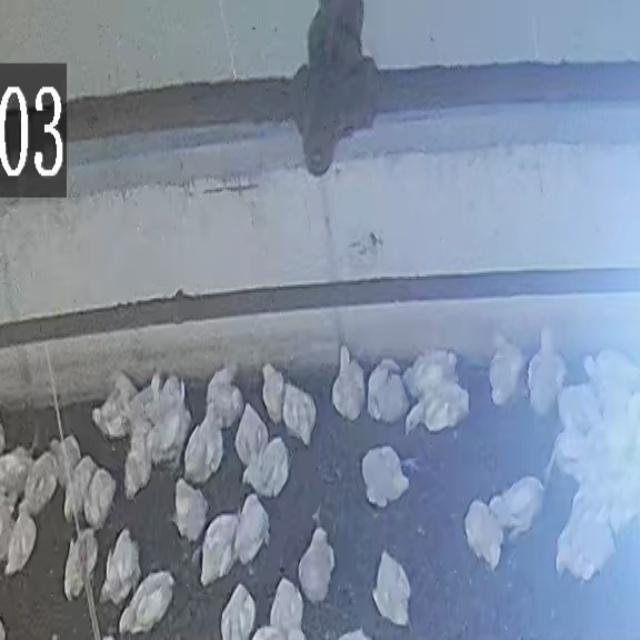chicken: (592, 377, 640, 485), (555, 502, 614, 583), (118, 570, 177, 636), (398, 384, 472, 432), (362, 446, 419, 506), (100, 528, 142, 608), (460, 494, 506, 566), (92, 371, 140, 440), (296, 523, 336, 603), (372, 548, 412, 628), (199, 511, 241, 587), (182, 414, 225, 488), (366, 358, 409, 428), (243, 436, 290, 500), (233, 493, 271, 569), (491, 326, 527, 406), (64, 526, 100, 603), (330, 348, 366, 423), (204, 365, 243, 432), (4, 506, 39, 578), (156, 392, 192, 462), (122, 426, 156, 500), (234, 402, 268, 473), (281, 381, 318, 446), (58, 455, 98, 515), (583, 350, 636, 395), (173, 478, 209, 544), (24, 449, 60, 515), (495, 481, 545, 528), (219, 581, 257, 640), (269, 576, 306, 636), (402, 351, 466, 385), (85, 466, 119, 530), (541, 424, 583, 474), (0, 447, 34, 507), (529, 325, 553, 408), (556, 382, 596, 428), (605, 484, 638, 537), (260, 362, 286, 426), (46, 431, 82, 464)
